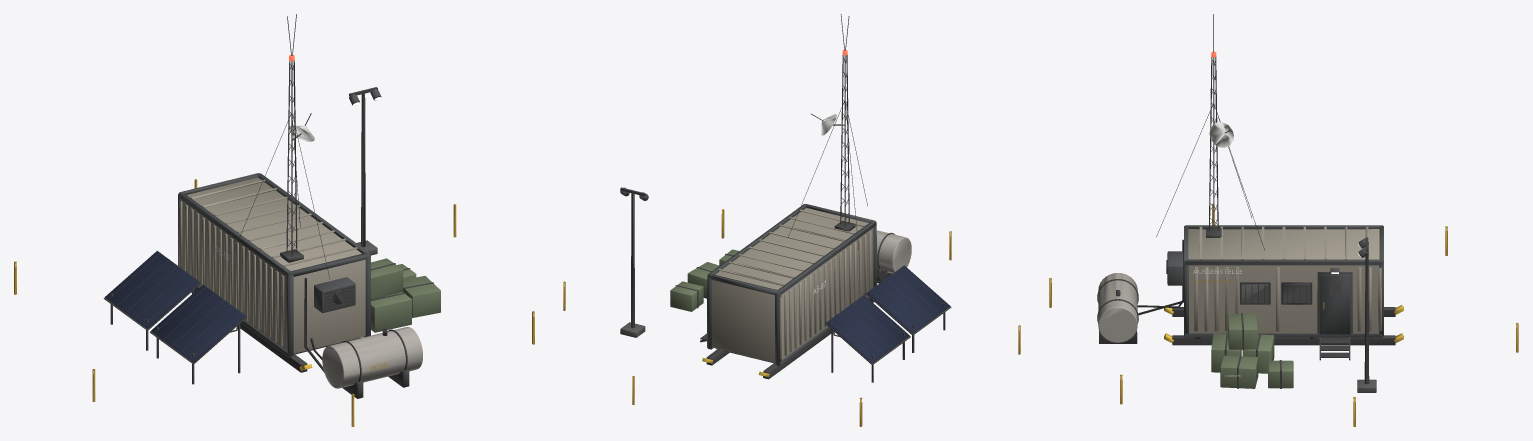
Rendered from Aussenstelle.5131dc0f4c.glb.
3 renders of one model, left to right at view 1: azimuth 30°, elevation 25°; view 2: azimuth 150°, elevation 25°; view 3: azimuth 270°, elevation 25°, orthographic. The views are drawn at different scales.
Parts seen in each view (by area): view 1: Aufbau__lack, Aufbau__matt; view 2: Aufbau__lack, Aufbau__matt; view 3: Aufbau__lack, Aufbau__matt.
Part boxes in pixels (bbox=[...]): Aufbau__lack: bbox=[14, 14, 534, 426]; Aufbau__matt: bbox=[215, 113, 329, 372]; Aufbau__lack: bbox=[563, 14, 1020, 426]; Aufbau__matt: bbox=[788, 101, 887, 336]; Aufbau__lack: bbox=[1049, 14, 1518, 426]; Aufbau__matt: bbox=[1137, 104, 1264, 376].
Size of the model in its own units: 14.41 by 10.55 by 14.71.
